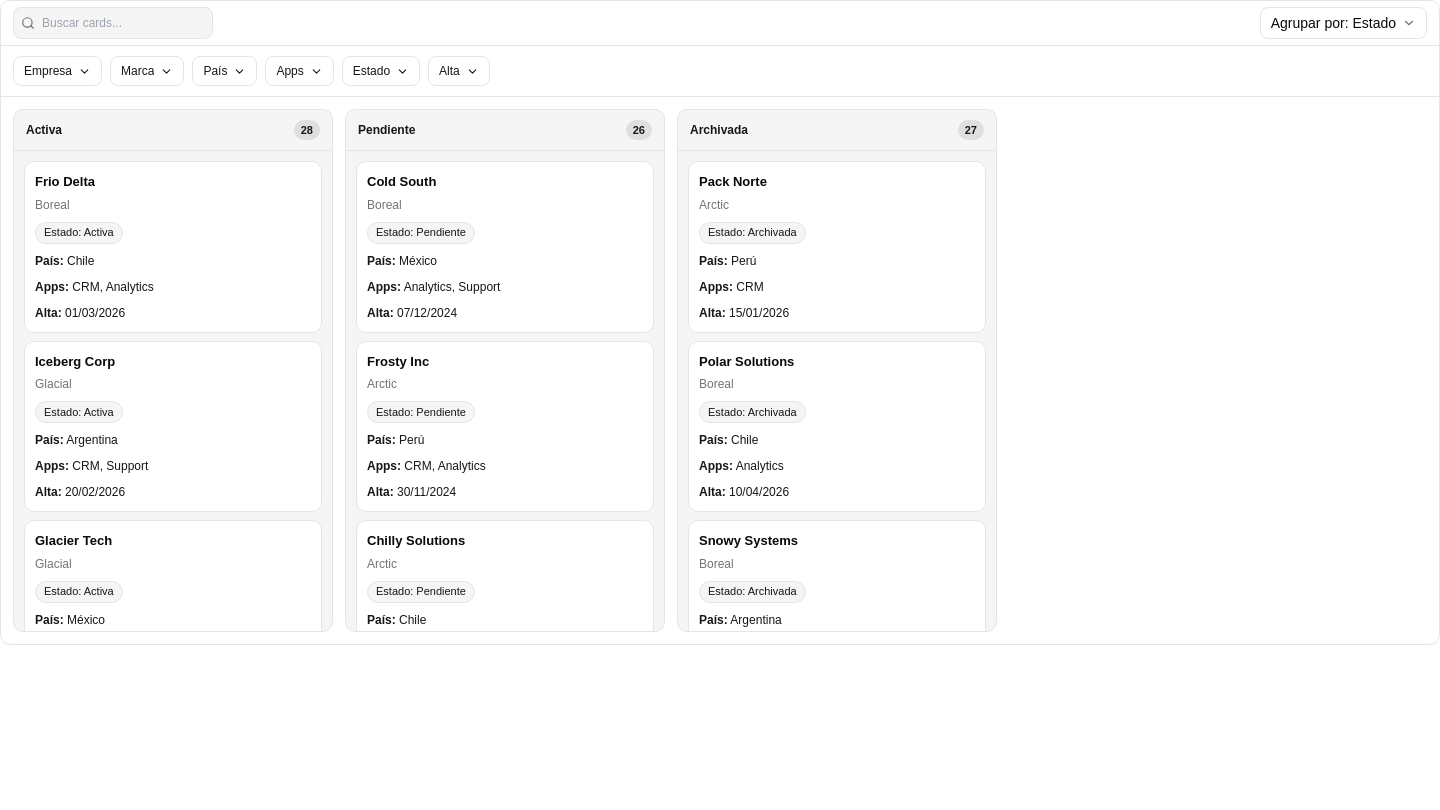
Test: the global search ignores accents and case › in the kanban: nino
In the search field: (113, 23) left=13, top=7, right=213, bottom=39, type "nino"
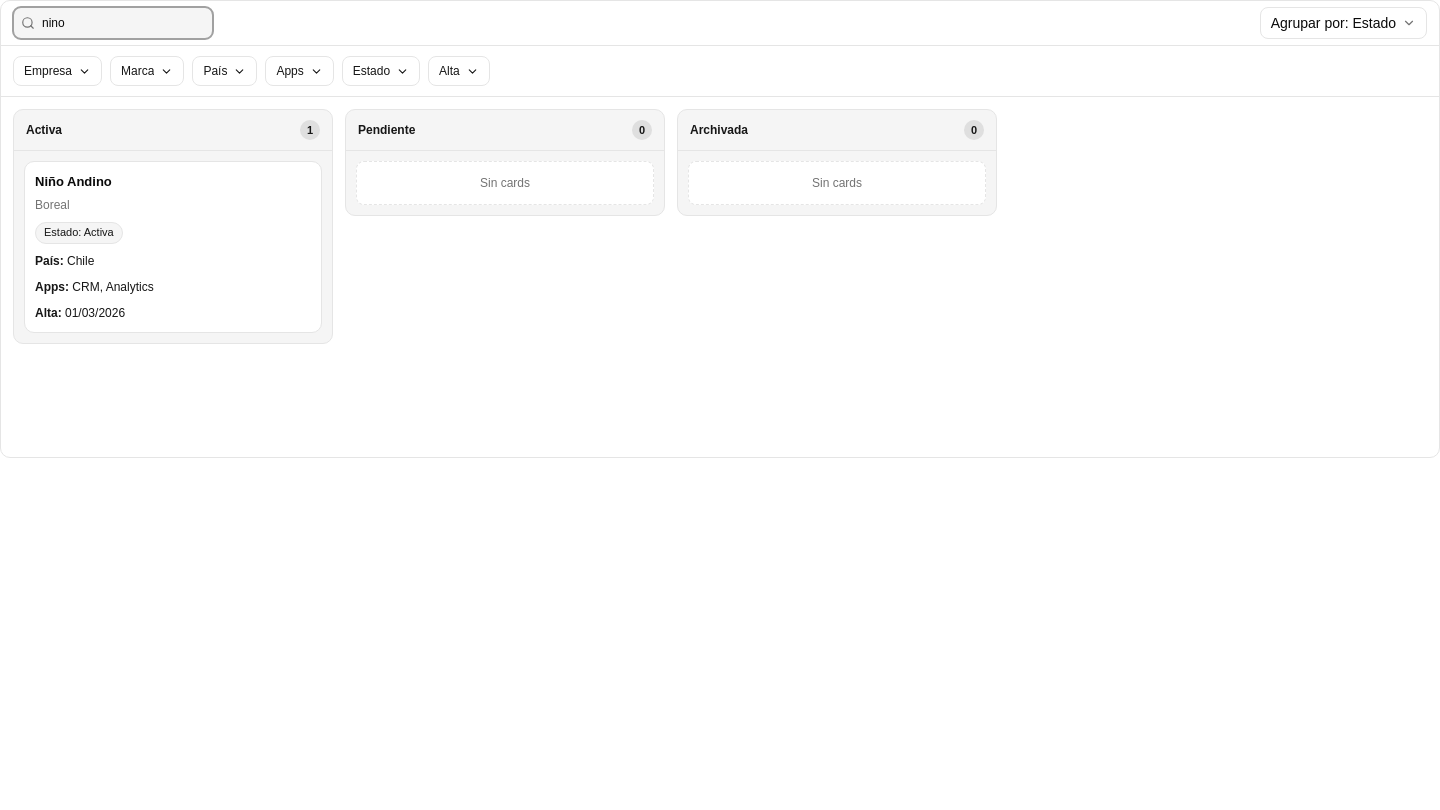
Expected: the number of elements with class "gdy-kanban-card" is 1, left=24, top=161, right=322, bottom=332
